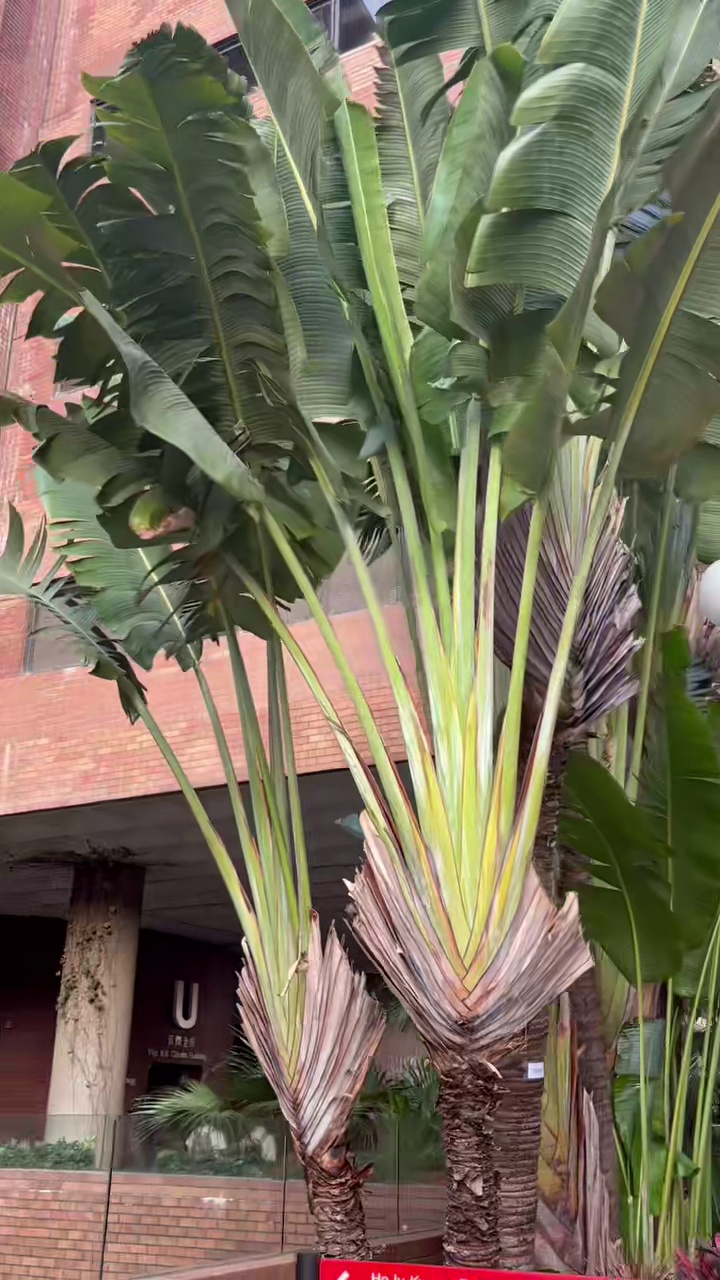Travellers-tree: (70, 0, 719, 1266)
